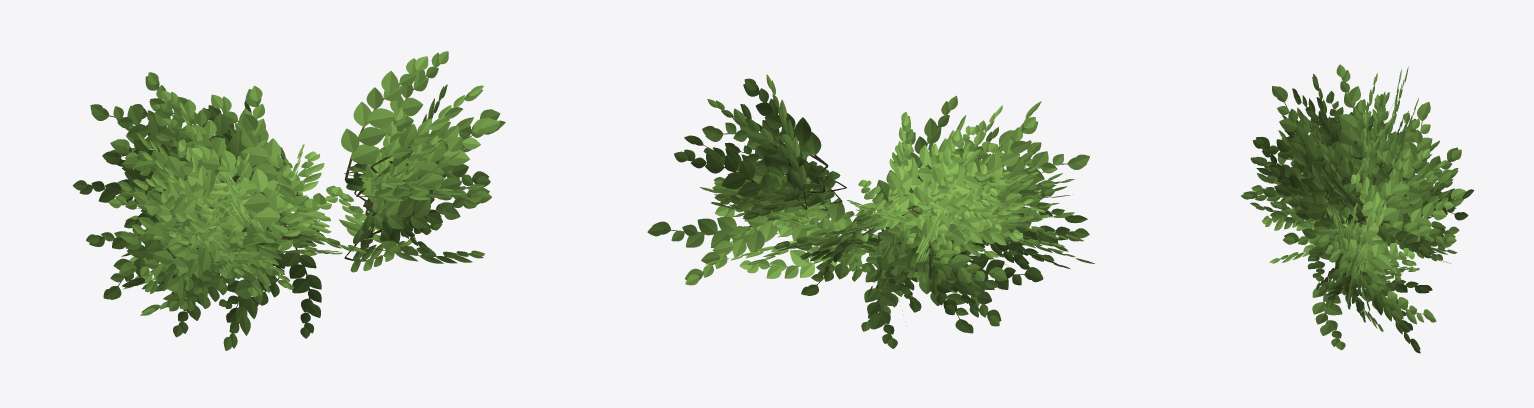
File: bush_1_mid.glb
3 renders of one model, left to right at view 1: azimuth 30°, elevation 25°; view 2: azimuth 150°, elevation 25°; view 3: azimuth 270°, elevation 25°, orthographic. The views are drawn at different scales.
Visible parts, largest first — view 1: bush_1_mid; view 2: bush_1_mid; view 3: bush_1_mid.
Part boxes in pixels (x1,y1,x2,y2): bush_1_mid: (72, 51, 505, 350); bush_1_mid: (647, 74, 1094, 348); bush_1_mid: (1241, 64, 1474, 353).
Size of the model in its own units: 3.6 by 2.13 by 2.63.
Materials: 1 (1 with a texture image).
